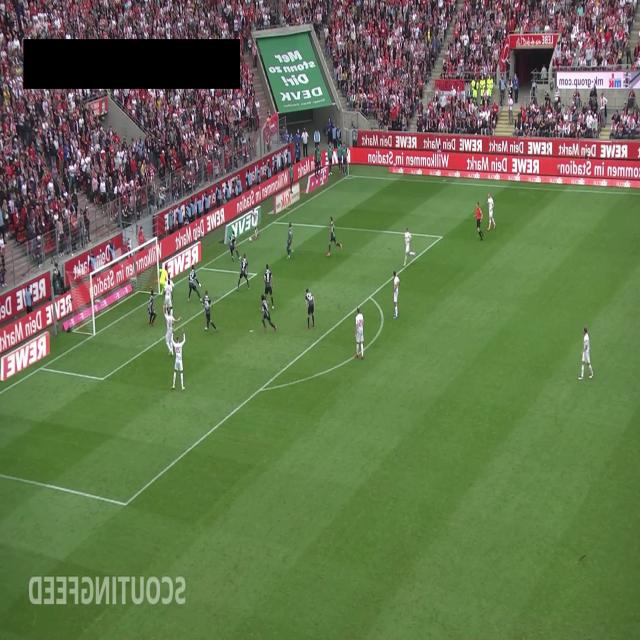ball: (248, 237, 252, 243)
goalkeeper: (159, 263, 168, 295)
player: (171, 329, 186, 390), (163, 306, 181, 356), (578, 326, 594, 380), (201, 289, 218, 331), (259, 294, 277, 333), (326, 216, 342, 256), (403, 226, 417, 268), (187, 265, 202, 302), (354, 307, 364, 359), (237, 253, 250, 292), (163, 272, 174, 315), (264, 263, 274, 309), (305, 288, 315, 329), (486, 192, 496, 231), (393, 270, 400, 318), (148, 287, 156, 326), (229, 234, 240, 261), (286, 222, 294, 259), (252, 207, 260, 240)
referee: (474, 201, 484, 240)
